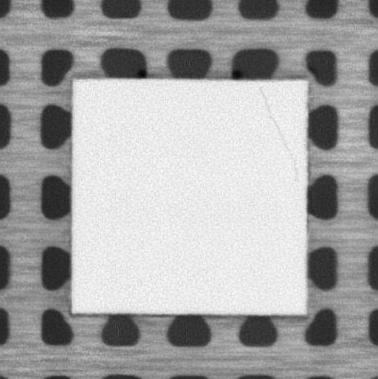DIE_CRACK: (256, 85, 298, 180)
